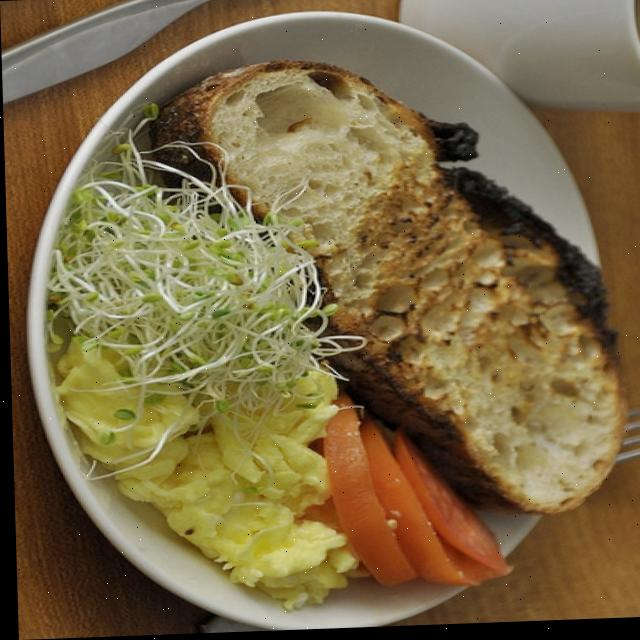鸡蛋料理: (35, 37, 638, 627)
